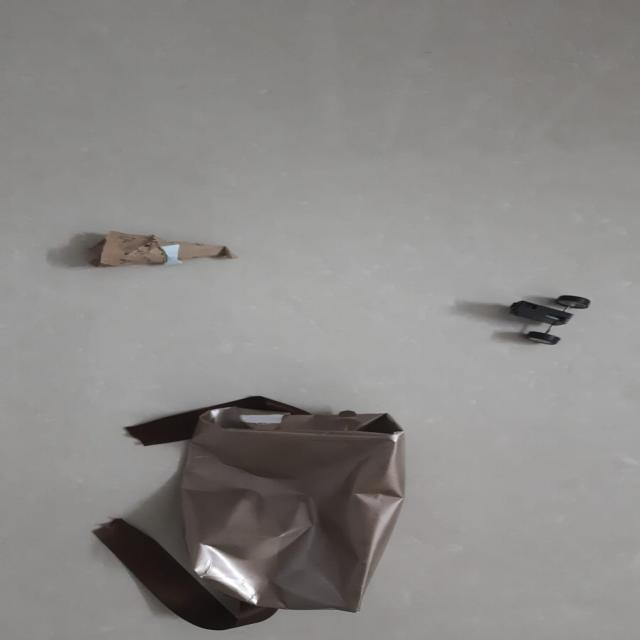paper: (90, 223, 253, 285)
